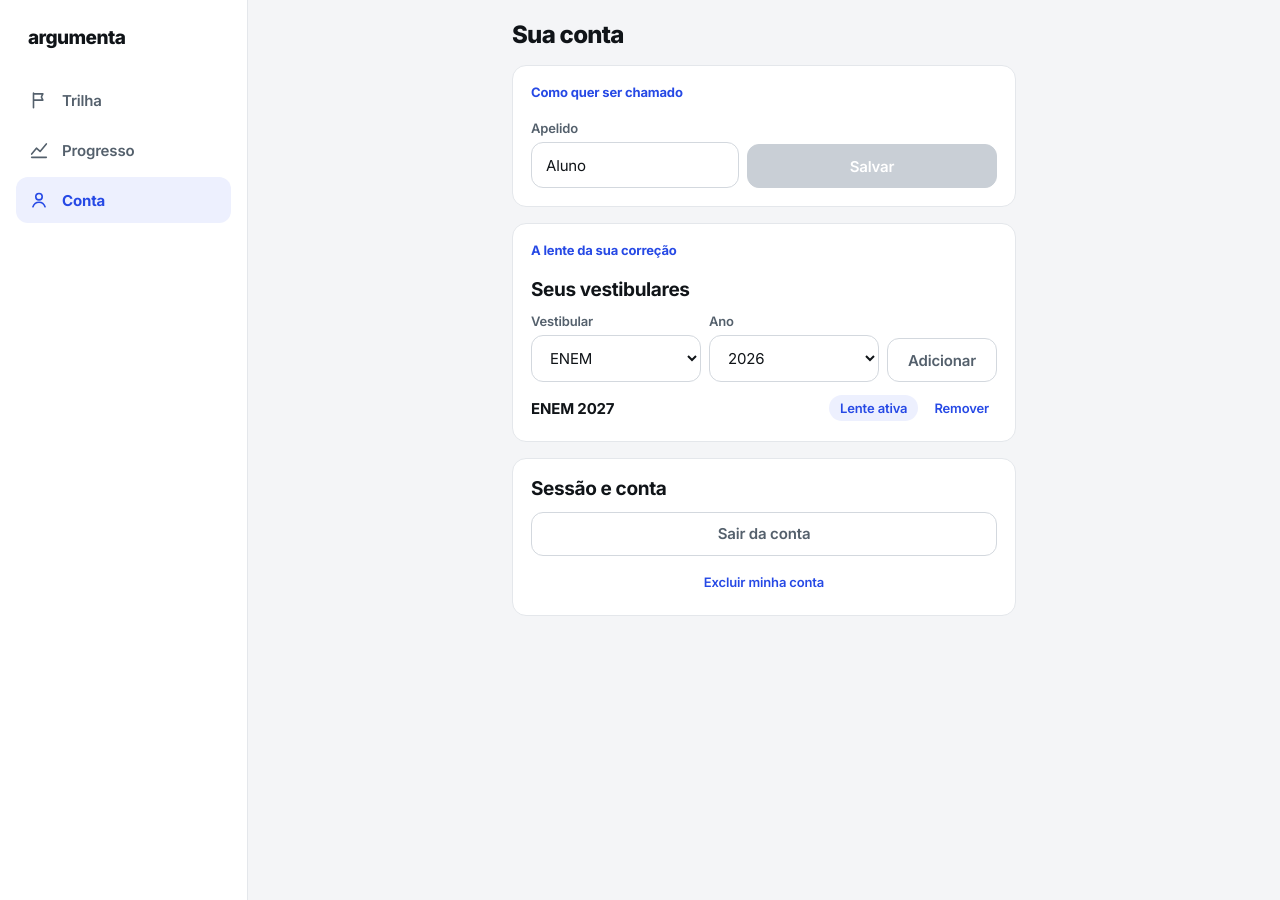
Test: remover vestibulares › remover o último avisa o efeito antes de remover
Click the button with aria-label "remover enem 2027".
click(962, 408)  # box [926, 394, 997, 423]
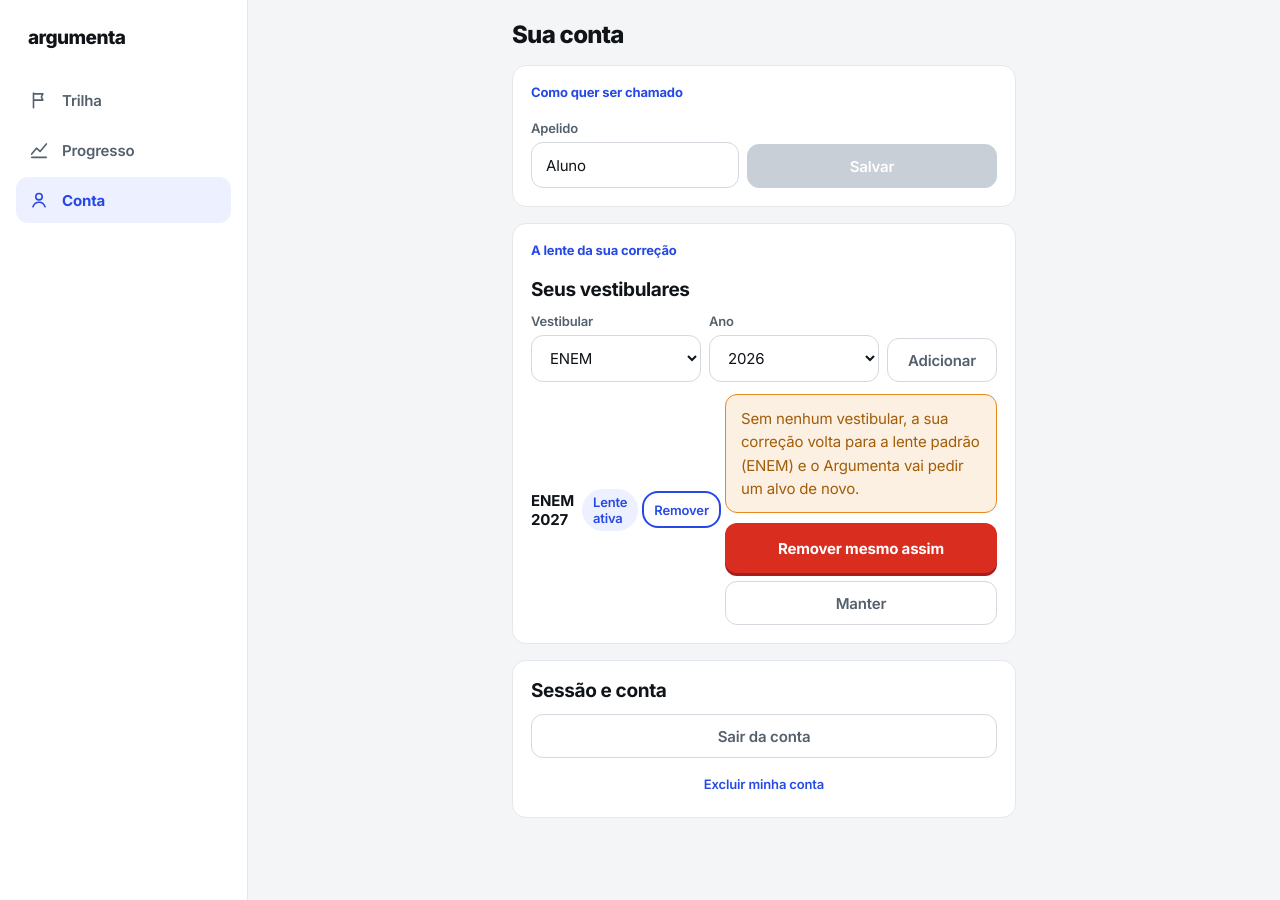
Expected: the list named "seus vestibulares" is shown, [531, 394, 997, 625]
Now the message shows "lente padrão", box [741, 409, 980, 498]
